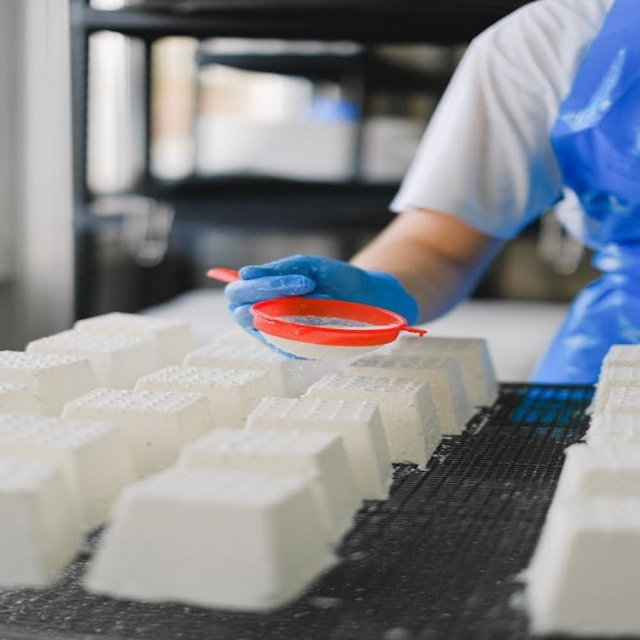Guantes: (223, 254, 417, 361)
